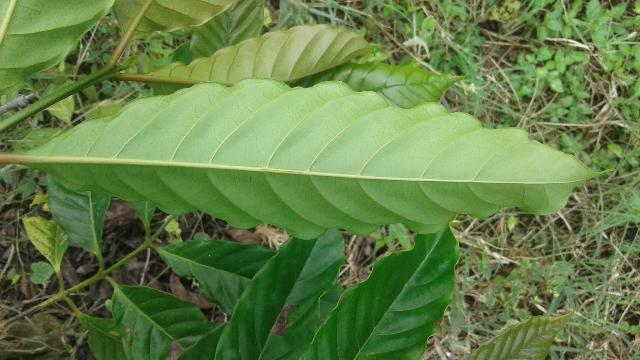healthy: (19, 74, 622, 243)
